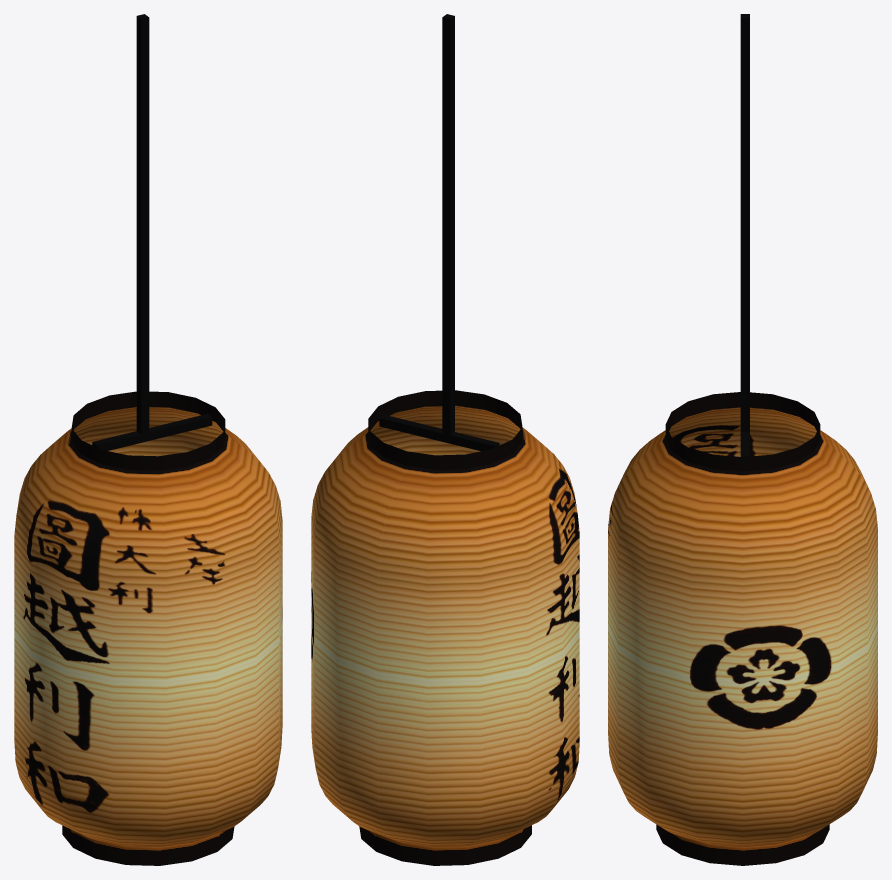
The model's file is golden lantern.FBX.
3 renders of one model, left to right at view 1: azimuth 30°, elevation 25°; view 2: azimuth 150°, elevation 25°; view 3: azimuth 270°, elevation 25°, orthographic.
Parts seen in each view (by area): view 1: Line01, Box02; view 2: Line01, Box02; view 3: Line01, Box02.
Part boxes in pixels (x1,y1,x2,y2): Line01: (14, 391, 282, 865); Box02: (92, 14, 212, 450); Line01: (311, 390, 579, 865); Box02: (379, 14, 499, 451); Line01: (608, 392, 877, 865); Box02: (740, 14, 749, 456).
Size of the model in its own units: 12.65 by 41.98 by 12.65.
Materials: 2 (2 with a texture image).
